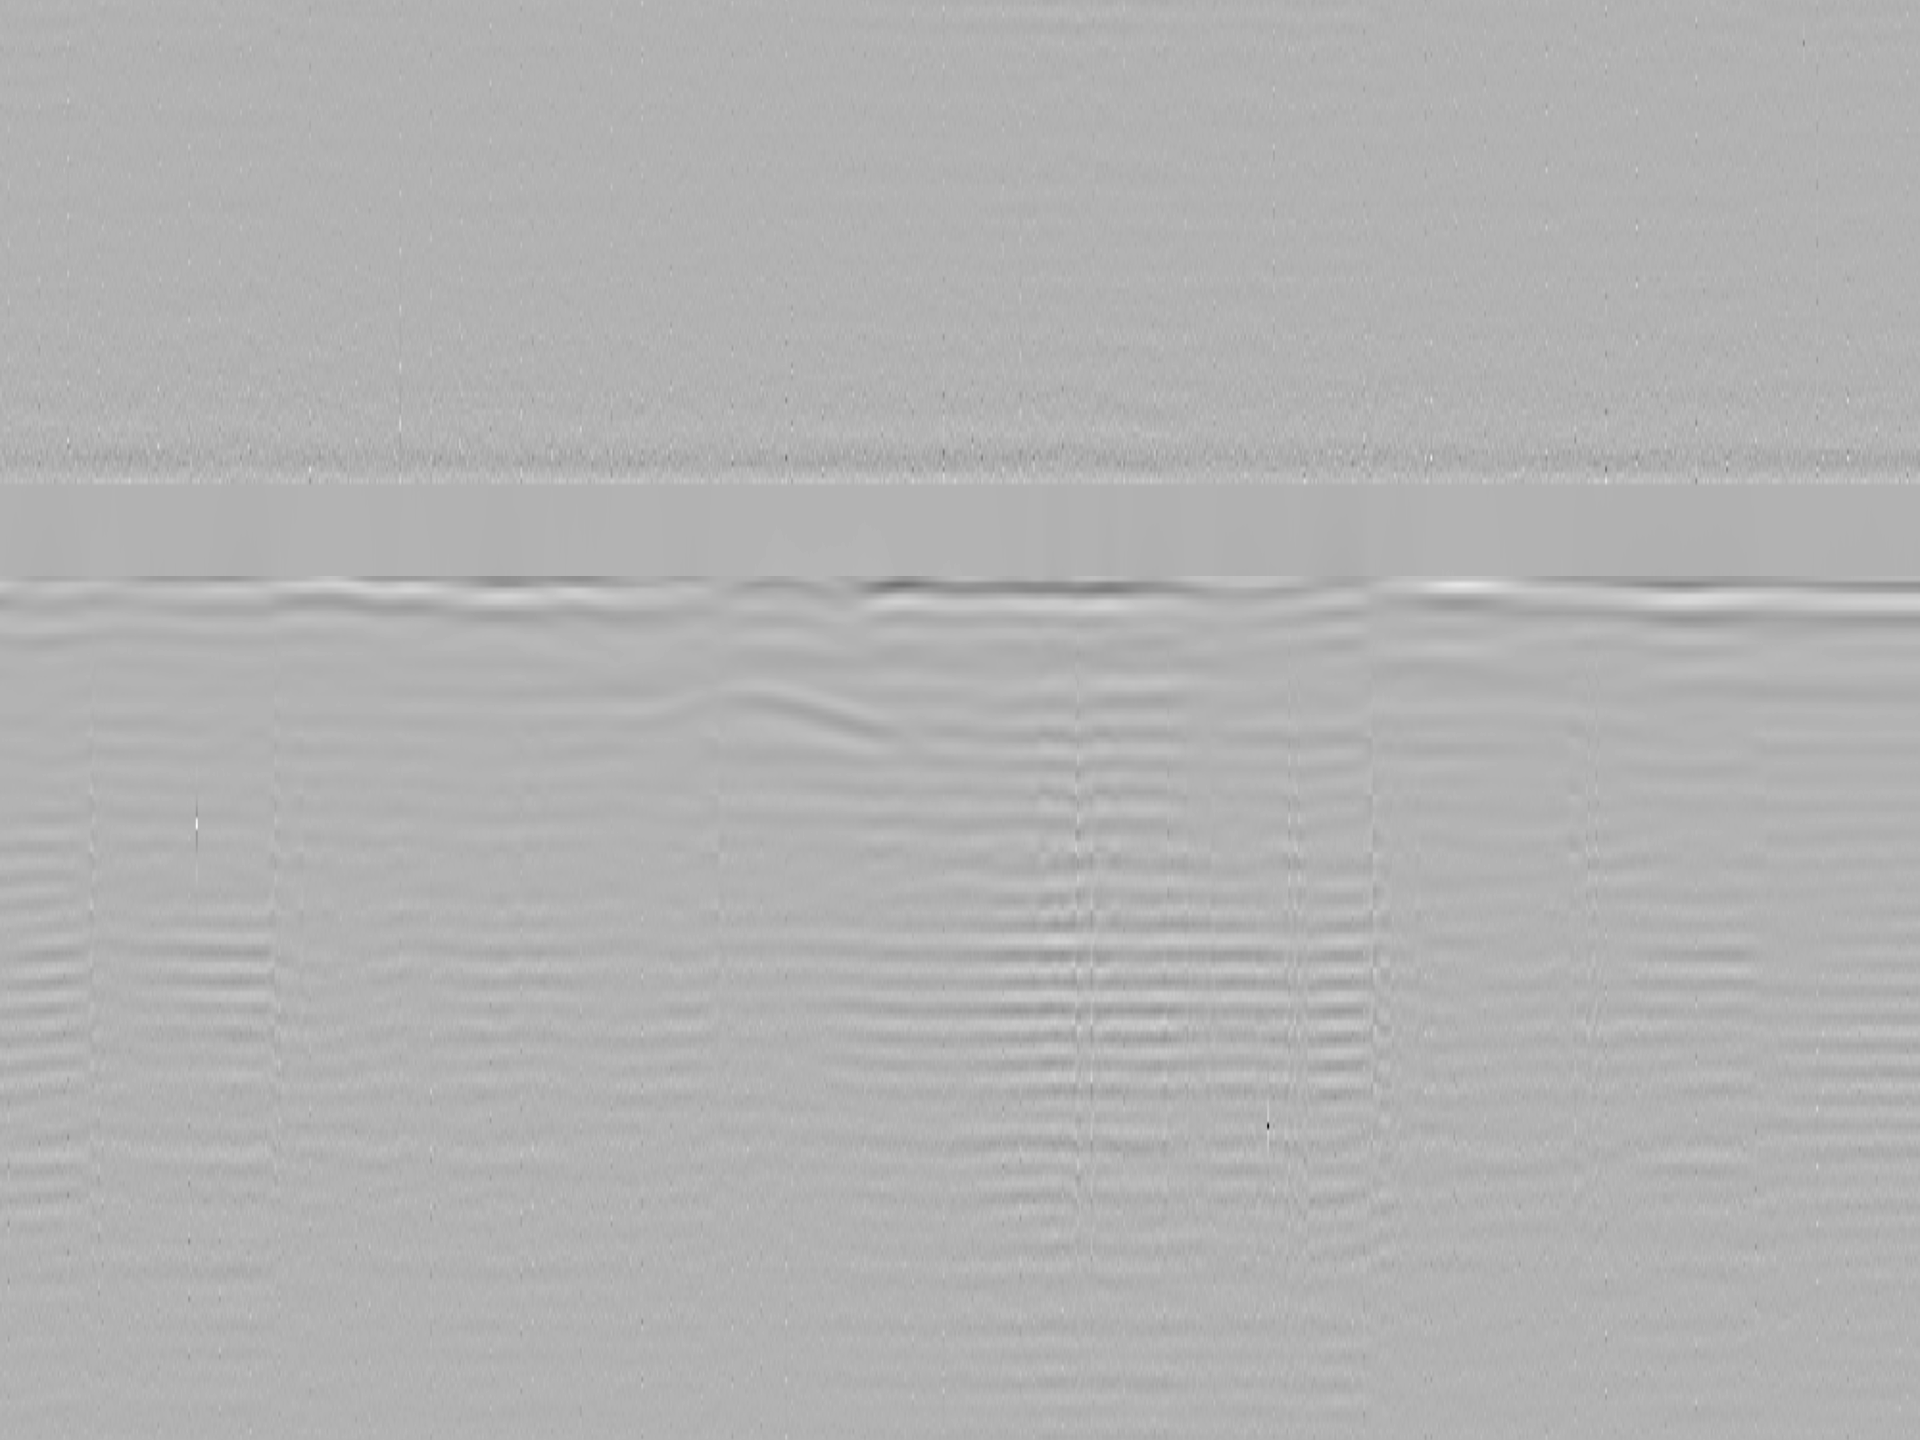Tunnel: (617, 821, 916, 895)
